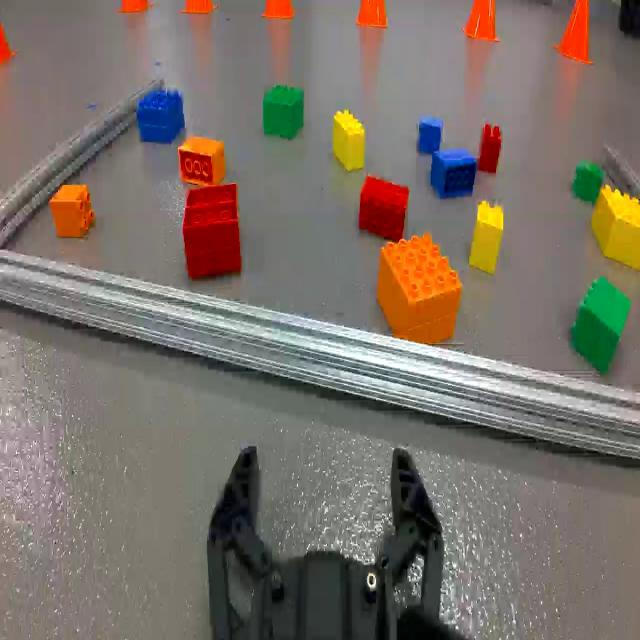block: (590, 185, 640, 272), (468, 201, 504, 275), (332, 110, 366, 173)
blue: (137, 85, 186, 145), (430, 149, 477, 200), (416, 116, 443, 156)
cone: (554, 0, 593, 64), (462, 0, 499, 43), (356, 0, 388, 28), (0, 22, 18, 67), (261, 0, 295, 19), (115, 0, 153, 13), (180, 0, 218, 13)
green: (570, 276, 632, 376), (263, 82, 304, 142), (572, 160, 605, 204)
metal barrier: (0, 76, 640, 466)
orange: (376, 233, 462, 344), (49, 184, 94, 238), (178, 136, 225, 187)
red goal: (182, 183, 241, 280), (359, 175, 409, 242), (478, 123, 502, 175)
